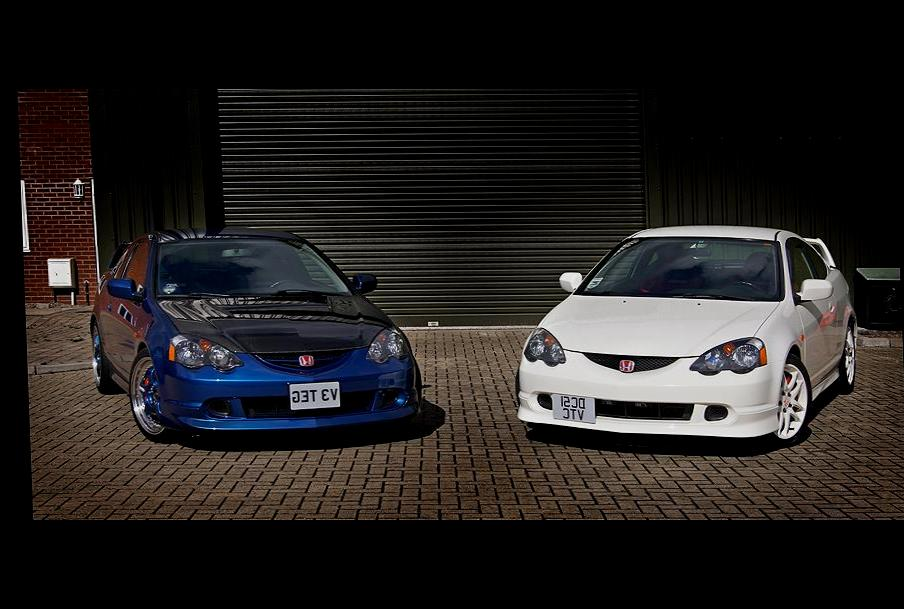License_Plate: (279, 372, 345, 417), (543, 389, 603, 428)
